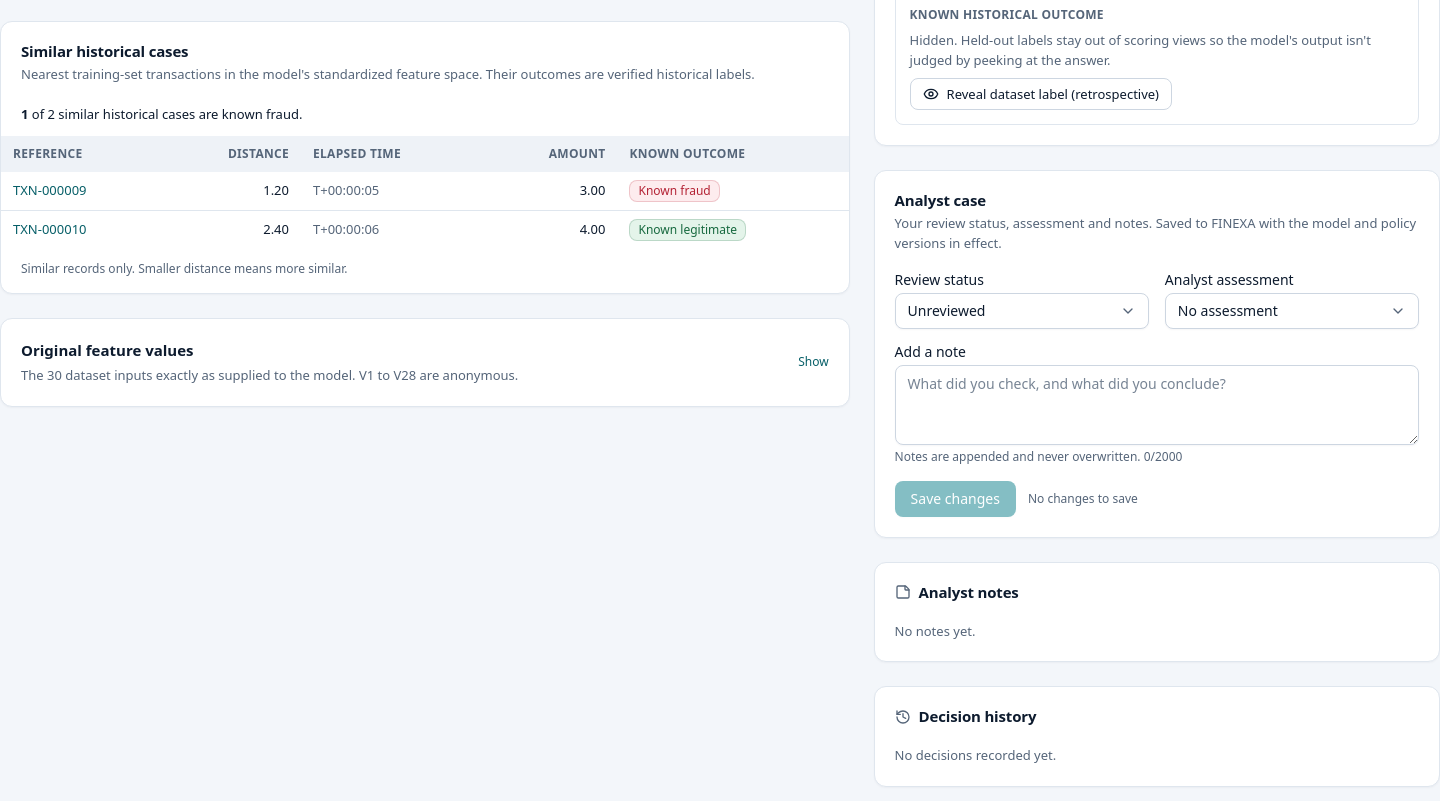
Test: case investigation page › surfaces a save failure without losing the typed note
(page scrolled)
Type "keep me" into the text box labelled "Add a note" at (1157, 405), box [895,365,1419,445]
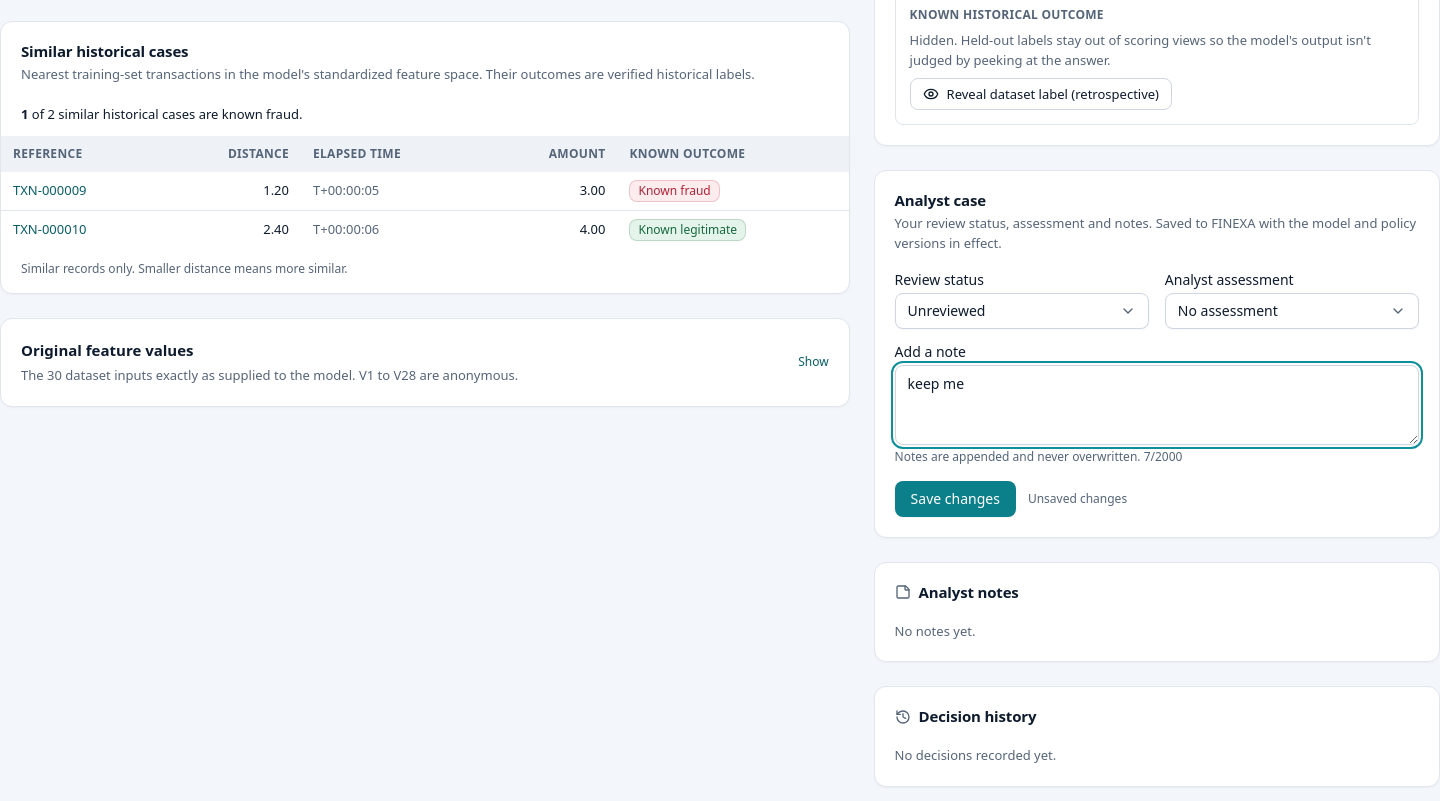
Click the button "Save changes" at (955, 499), box [895,481,1016,517]
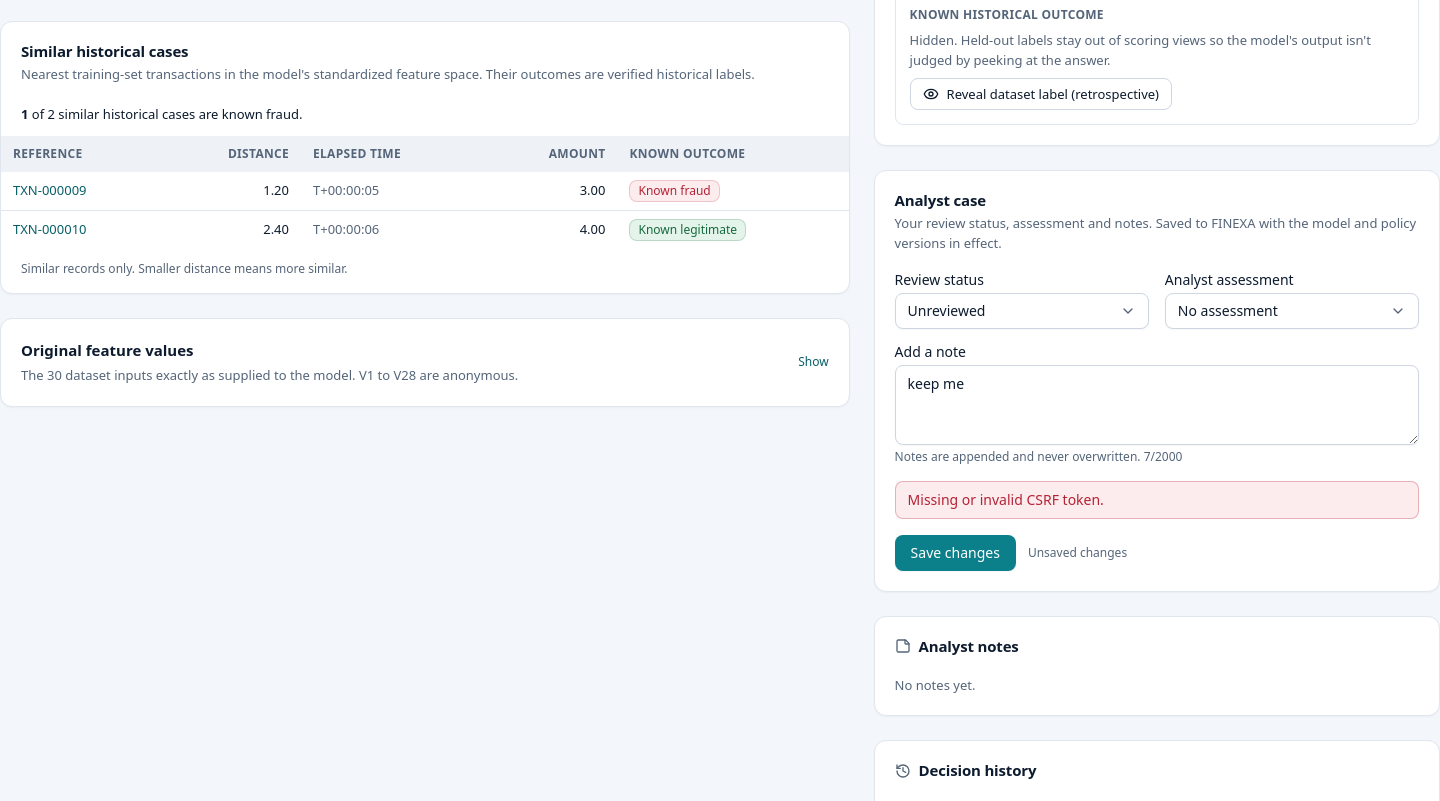
Check: the message shows "CSRF", box [908,490,1104,509]
